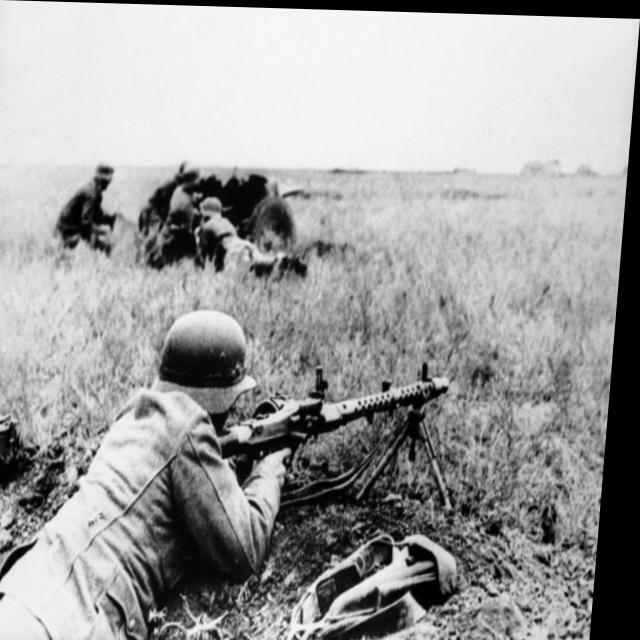other: (0, 307, 312, 640), (196, 191, 285, 275), (58, 153, 120, 260), (156, 165, 199, 270)
